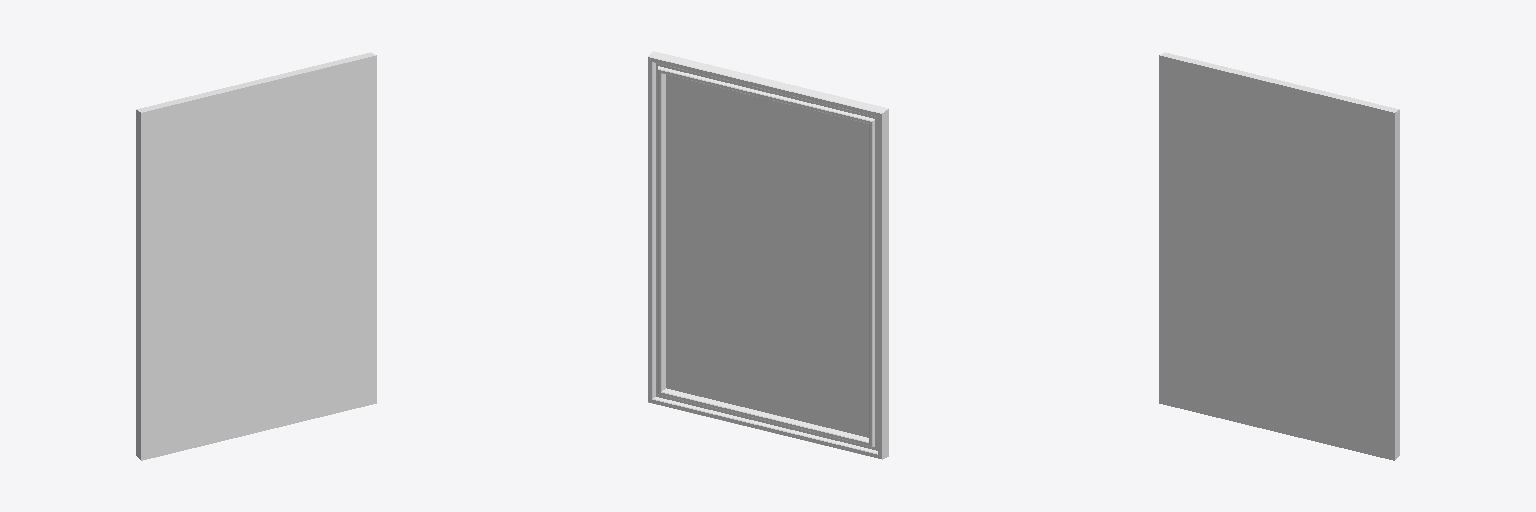
3 views of the same model, side by side, from view 1: azimuth 30°, elevation 25°; view 2: azimuth 150°, elevation 25°; view 3: azimuth 330°, elevation 25° (orthographic).
Parts seen in each view (by area): view 1: aws_PortraitA_01_visualMesh; view 2: aws_PortraitA_01_visualMesh; view 3: aws_PortraitA_01_visualMesh.
Part boxes in pixels (x1,y1,x2,y2): aws_PortraitA_01_visualMesh: (136,52,376,460); aws_PortraitA_01_visualMesh: (648,51,888,459); aws_PortraitA_01_visualMesh: (1159,52,1399,460).
Bounding box in the file's own units: 0.4904 × 0.6918 × 0.0215.